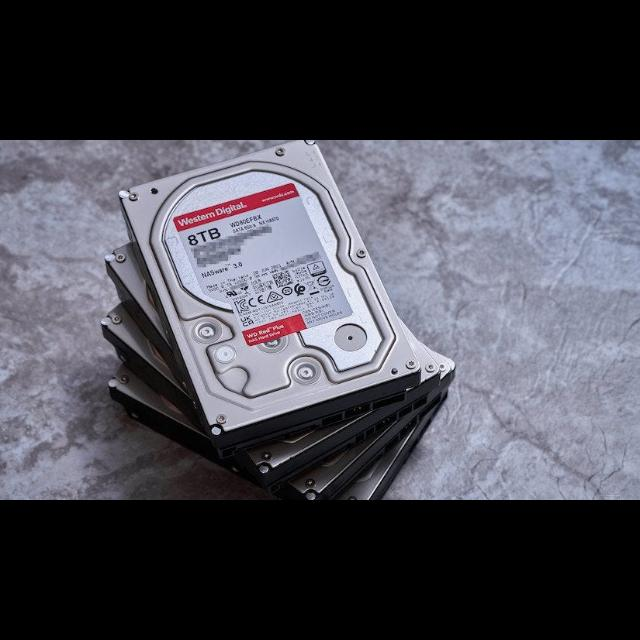HDD: (119, 140, 423, 450)
